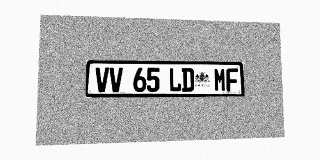5: (147, 68, 160, 92)
6: (133, 67, 146, 92)
D: (182, 68, 194, 92)
F: (226, 68, 238, 91)
L: (169, 68, 181, 92)
M: (214, 68, 226, 92)
V: (95, 67, 109, 92), (109, 67, 123, 92)
